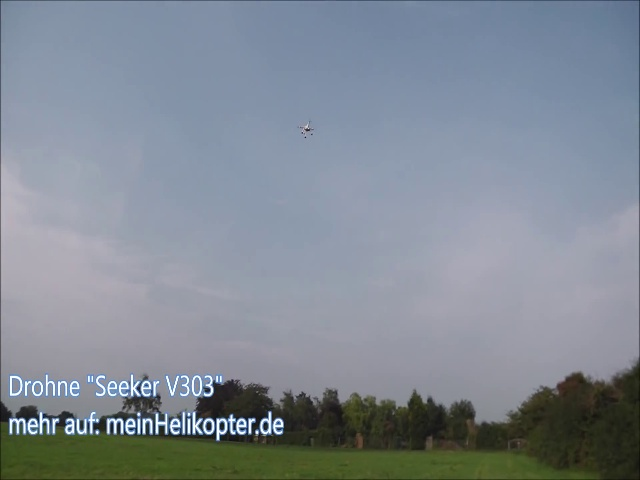drone: (295, 118, 316, 141)
